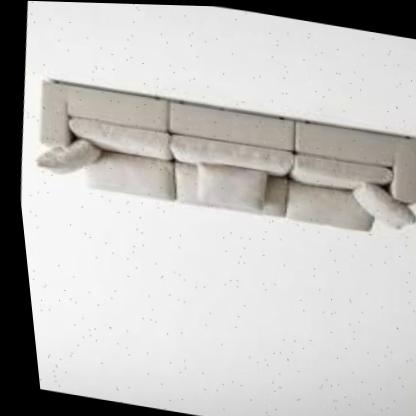Sofa: (12, 52, 416, 267)
